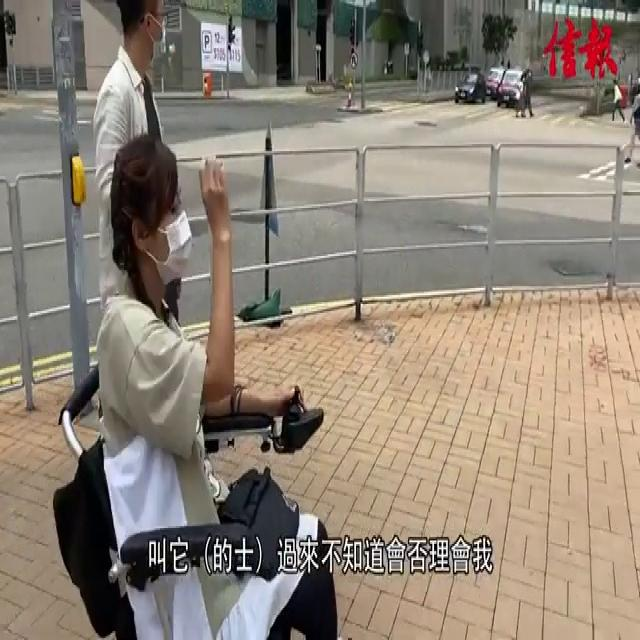wheelchairs: (53, 339, 344, 640)
